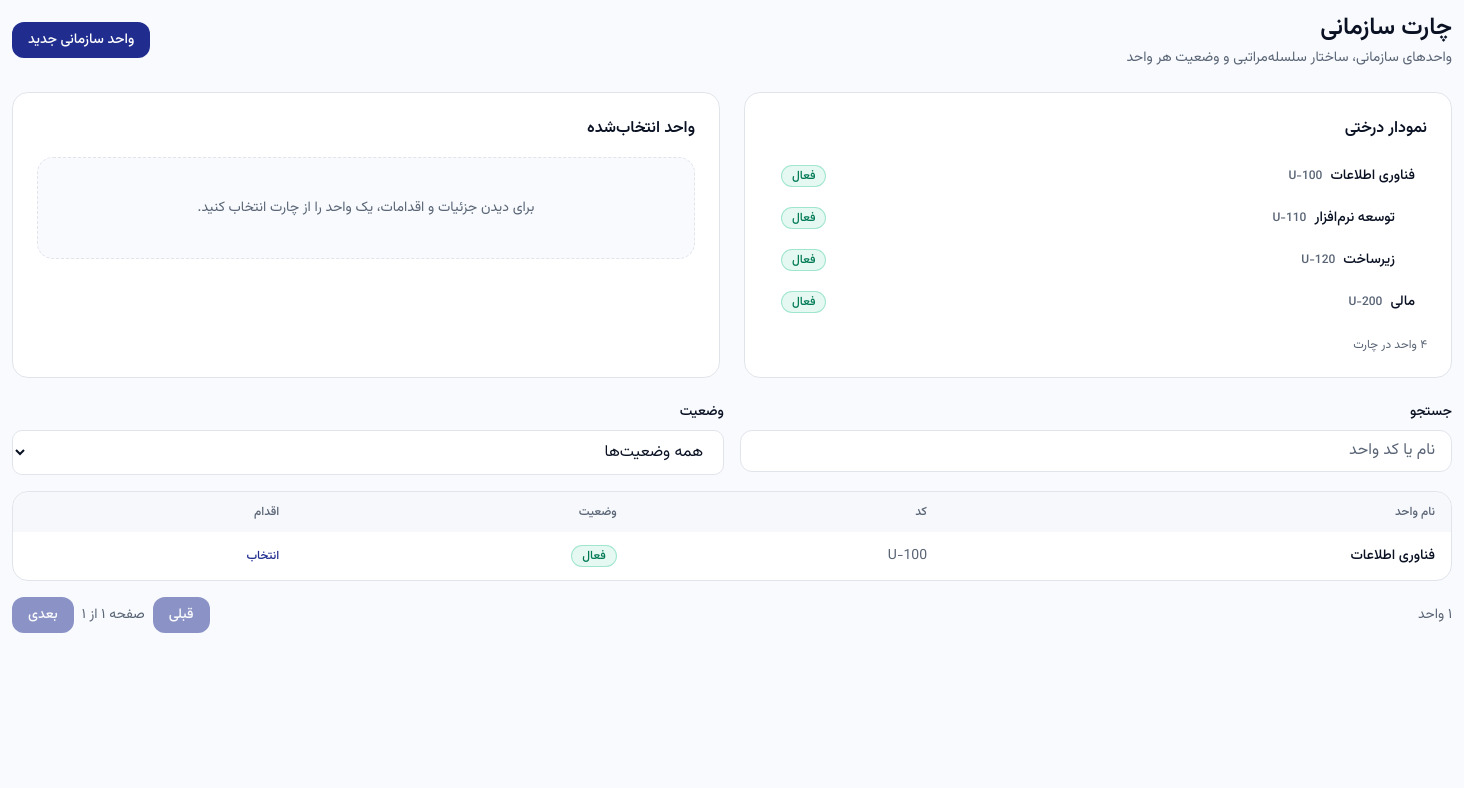
Test case: HrOrganizationView › sends an OMITTED parent for a root unit, never a null or an empty string
The width and height of the screenshot is (1464, 788).
Expected: the table with test id "hr-unit-table" is shown, [13, 492, 1451, 580]
Step 1. Click the button with test id "hr-unit-create-open" → [81, 40], box [12, 22, 150, 58]
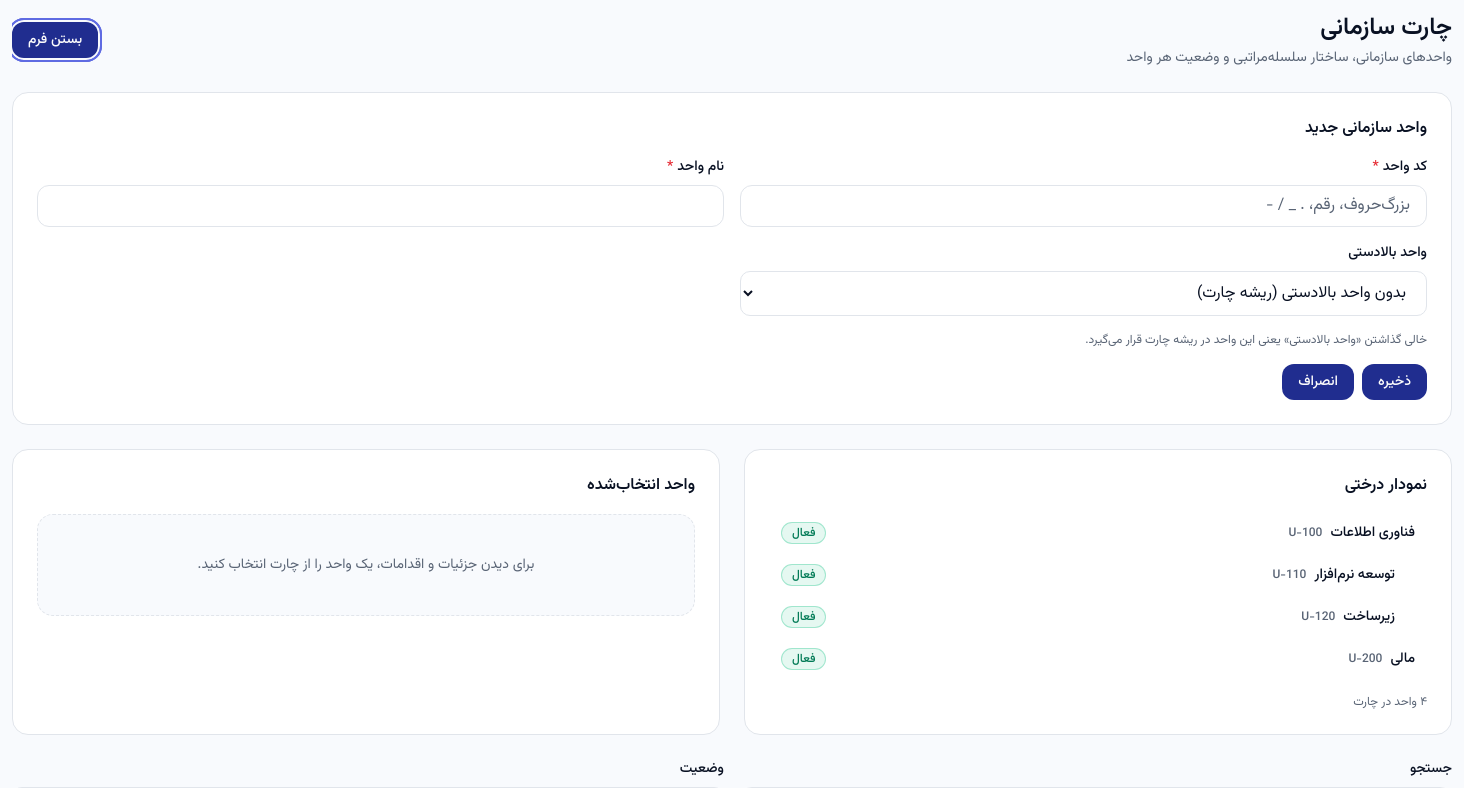
Step 2. Type "U-900" into the field with id "hr-unit-code" → [1084, 206], box [740, 185, 1427, 227]
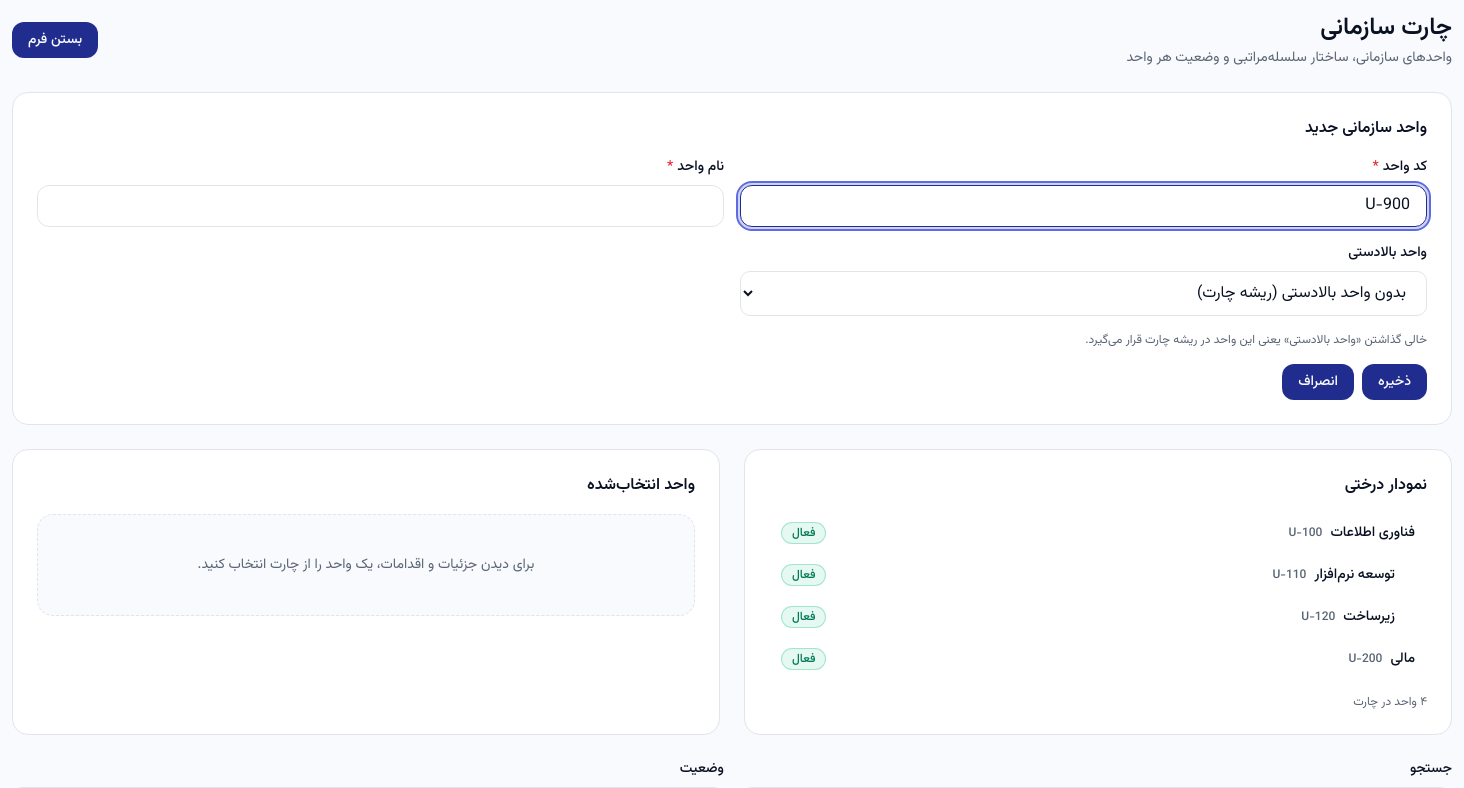
Step 3. Type "پشتیبانی" into the field with id "hr-unit-name" → [380, 206], box [37, 185, 724, 227]
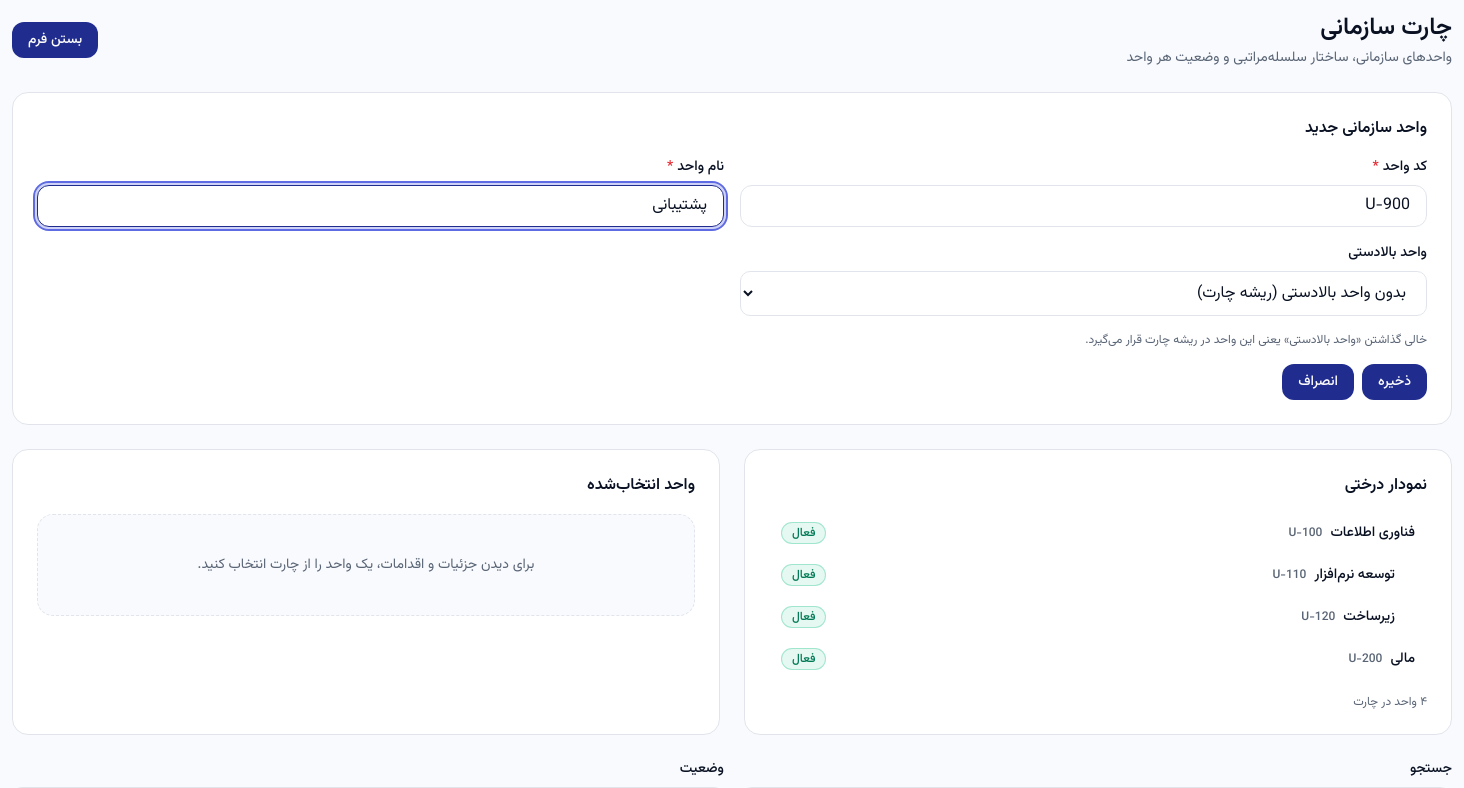
Step 4. Click the button with test id "hr-unit-create-submit" → [1395, 382], box [1362, 364, 1427, 400]
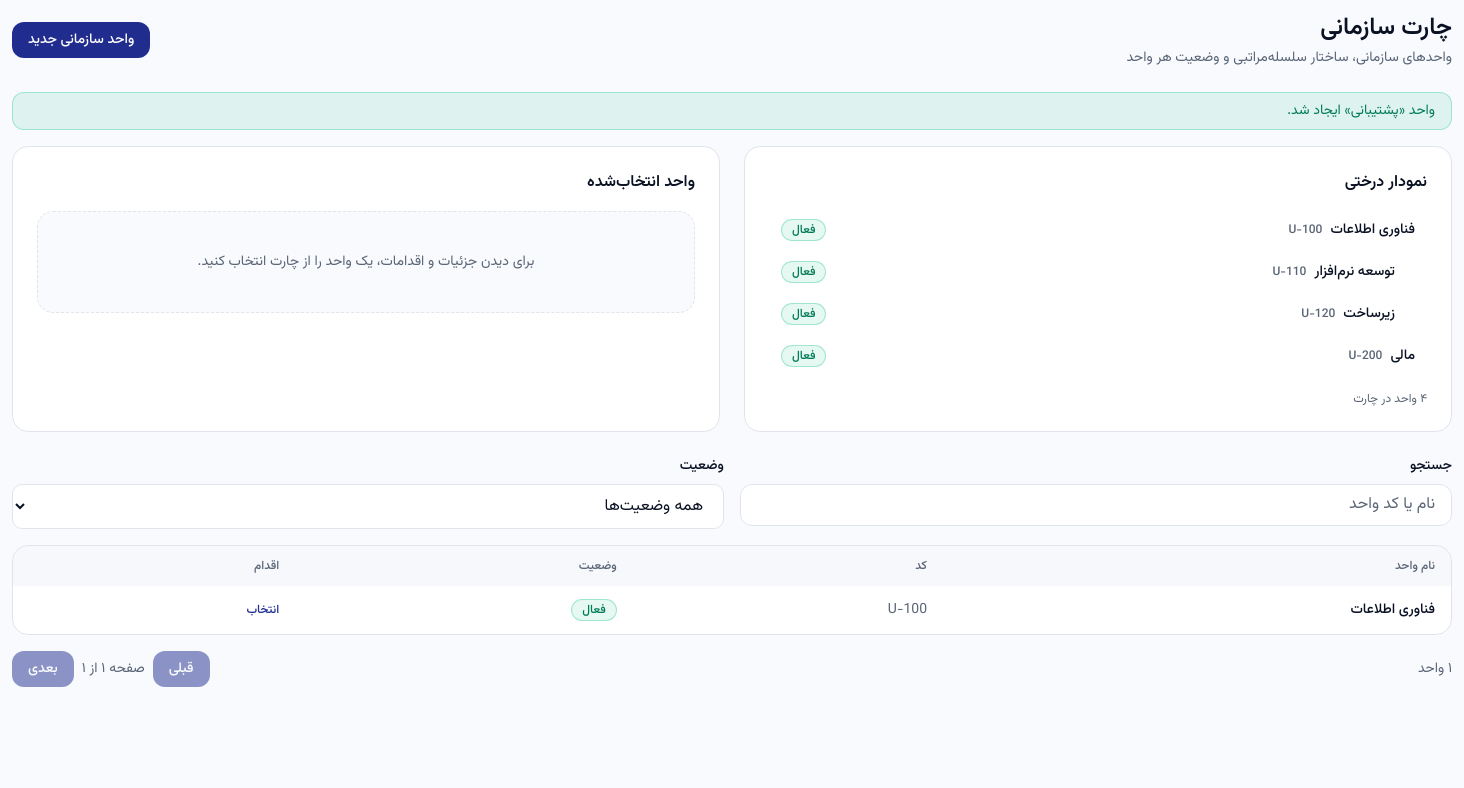
Now the message with test id "hr-notice-ok" shows "پشتیبانی", box [1287, 100, 1435, 122]
